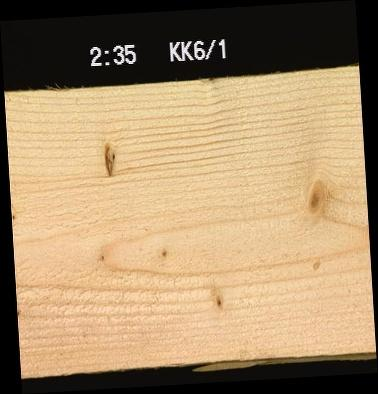small_knot: (208, 289, 230, 311), (155, 246, 172, 259), (16, 303, 23, 318), (11, 207, 18, 221)
sound_knot: (298, 179, 334, 214)
